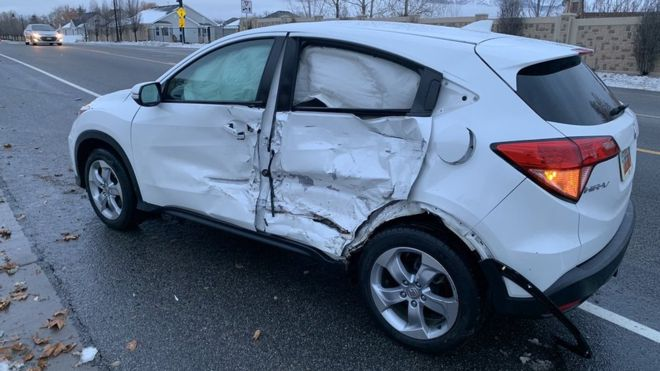Carro: (62, 20, 642, 358), (21, 22, 65, 47)
